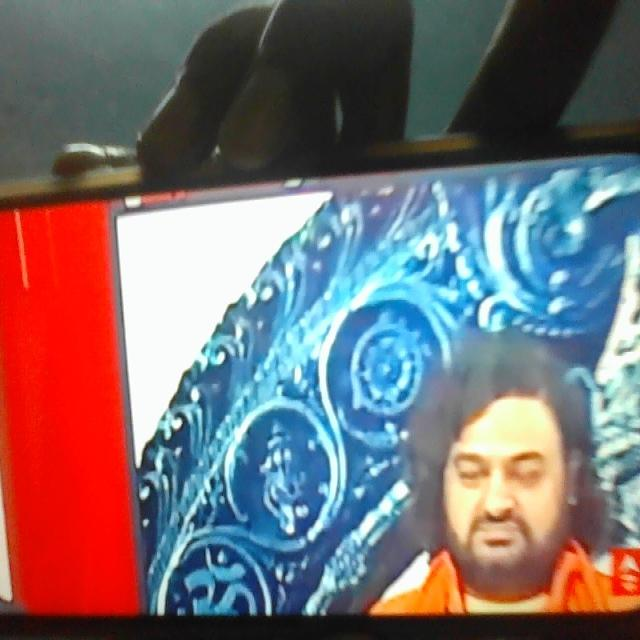fake: (442, 343, 576, 596)
